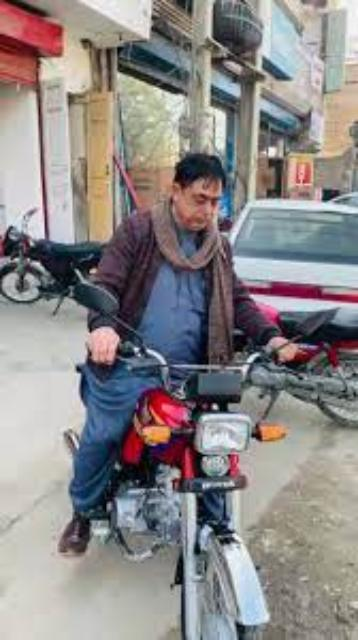Bike: (61, 348, 298, 640)
Person: (81, 151, 271, 380)
